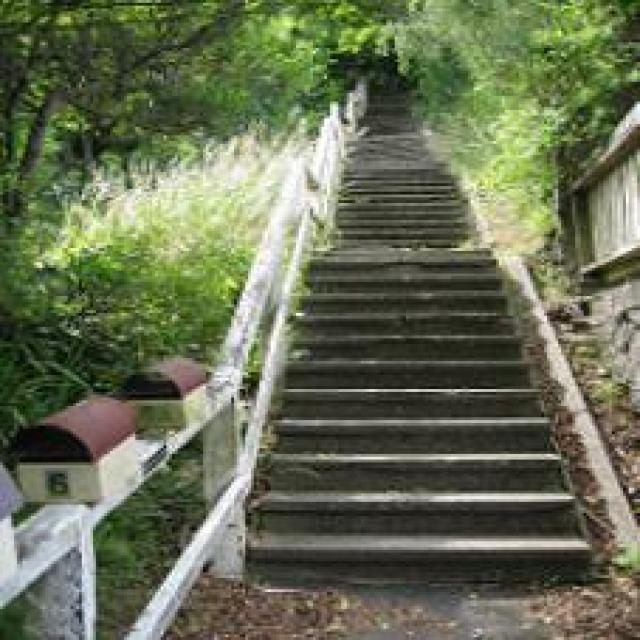stair: (262, 234, 584, 567)
